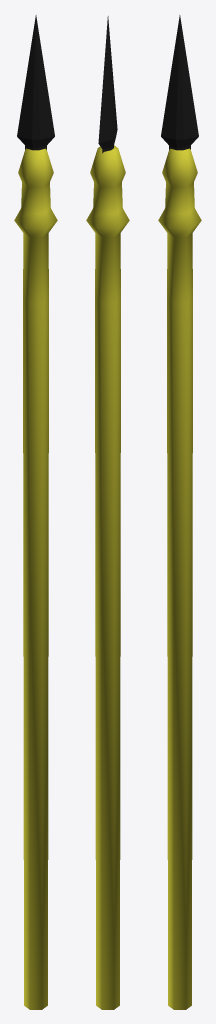
Rendered from survival-spear-head.obj.
3 renders of one model, left to right at view 1: azimuth 90°, elevation 25°; view 2: azimuth 150°, elevation 25°; view 3: azimuth 270°, elevation 25°, orthographic.
Visible parts, largest first — view 1: Cylinder.002, Cone; view 2: Cylinder.002, Cone; view 3: Cylinder.002, Cone.
Part boxes in pixels (x1,y1,x2,y2): Cylinder.002: (14, 148, 57, 1009); Cone: (17, 15, 54, 150); Cylinder.002: (86, 145, 129, 1009); Cone: (98, 16, 117, 153); Cylinder.002: (158, 148, 201, 1009); Cone: (161, 15, 198, 150).
Bounding box in the file's own units: 0.2763 × 8.01 × 0.3191.
